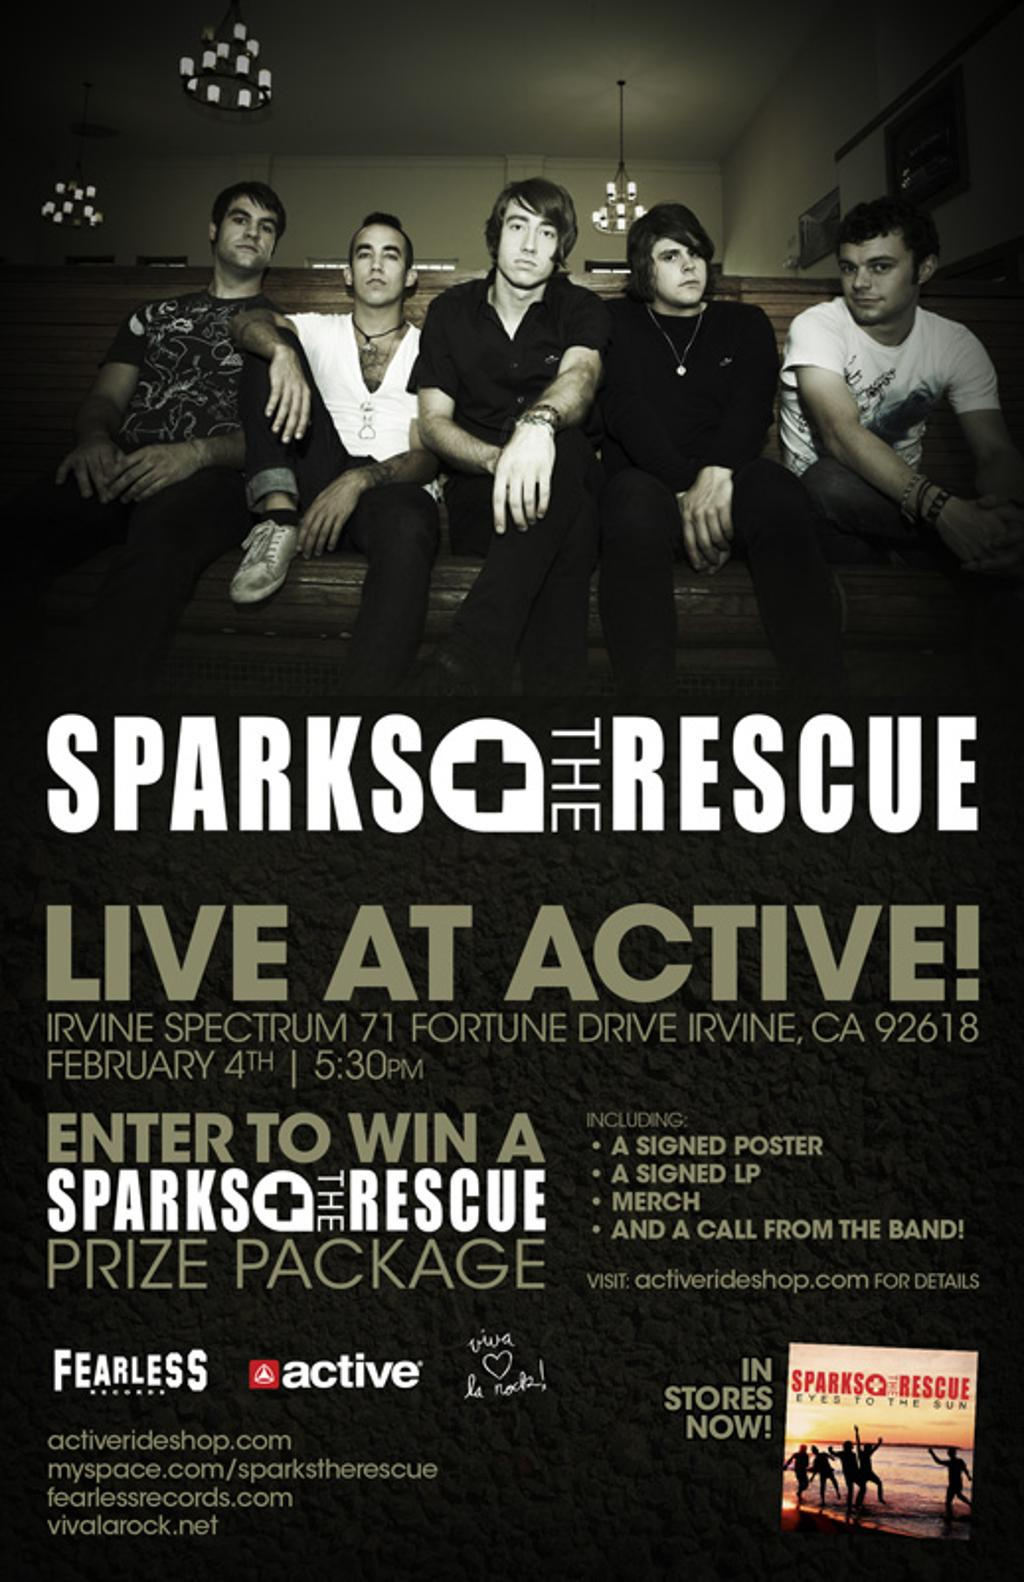face: (840, 241, 918, 320), (500, 201, 559, 286), (648, 230, 708, 304), (219, 198, 278, 270), (352, 230, 405, 305), (844, 1441, 853, 1451), (948, 1448, 956, 1457), (864, 1444, 871, 1453), (812, 1446, 818, 1455), (802, 1445, 807, 1452)
